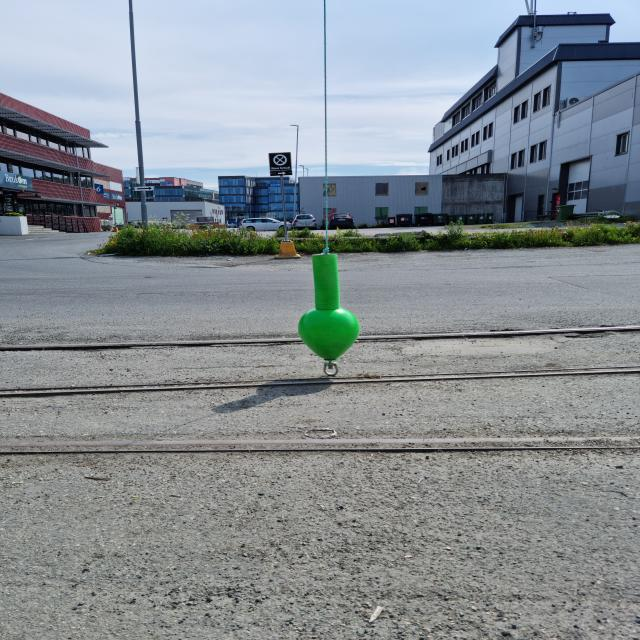green: (298, 252, 361, 361)
